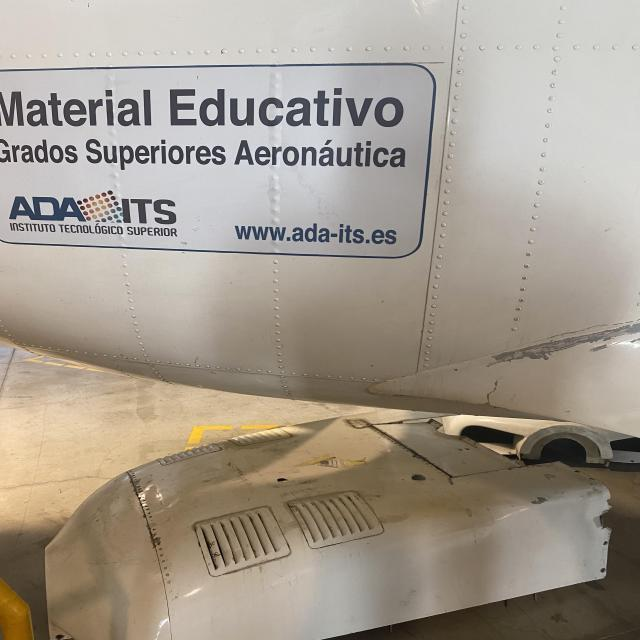Rupture: (472, 374, 510, 412)
